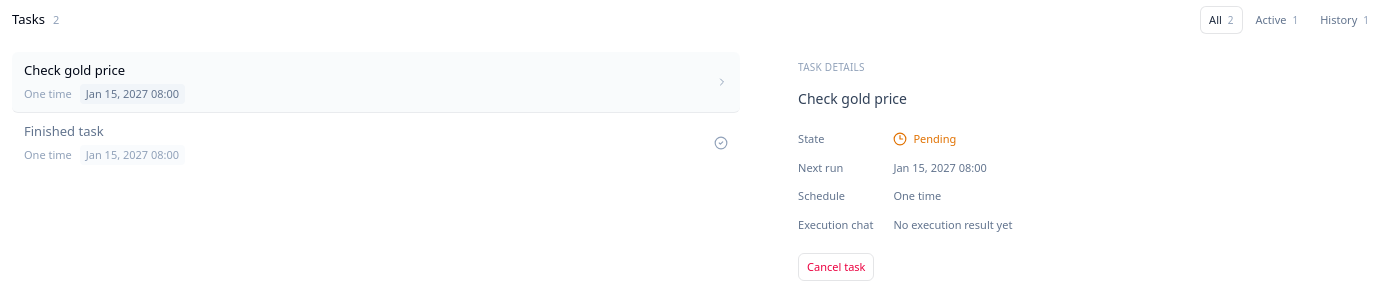
ChatScheduleBoard › filters task history and dismisses completed tasks
What coordinates should you click on to do the following:
click the button "History 1"
I would click on:
 (1345, 20)
Its box is [1311,6,1378,34].
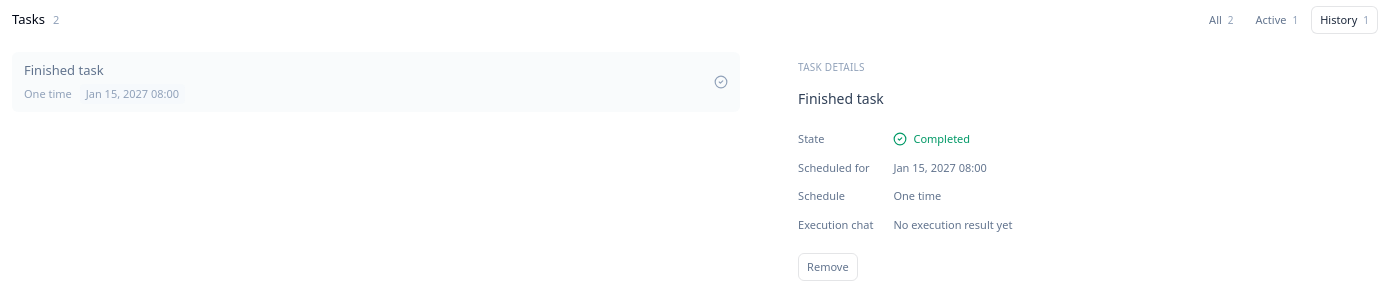
Check: the text "Finished task" is shown, box [24,61,104,79]
Check: the text "Check gold price" is gone
What coordinates should you click on to do the following:
click the button "Remove"
I would click on:
 (828, 267)
Its box is [798,253,858,281].
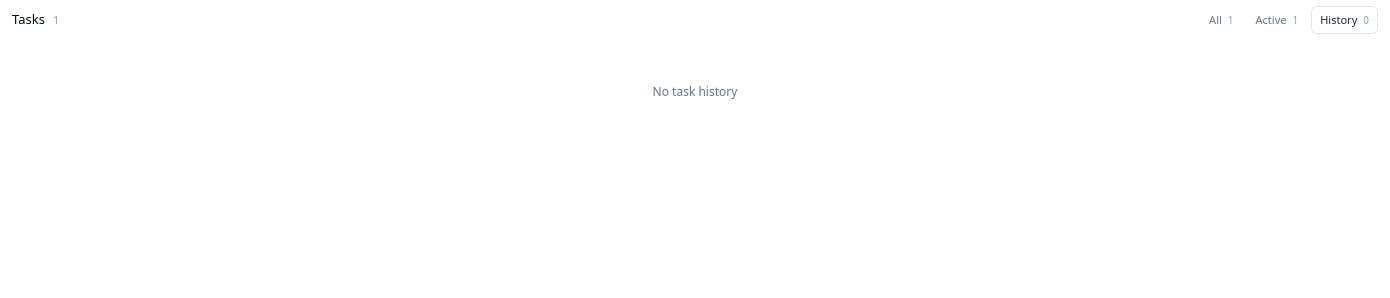
Check: the text "No task history" is shown, box [653,83,737,100]
